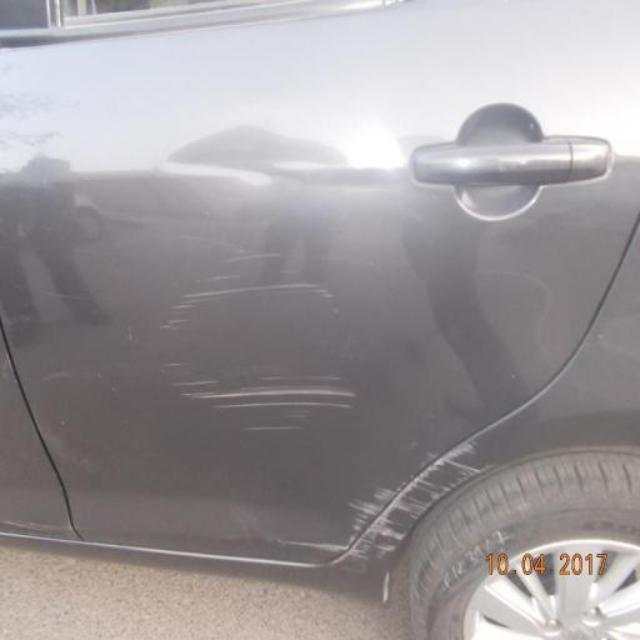rub: (267, 433, 502, 608), (159, 232, 341, 338), (191, 371, 351, 435)
